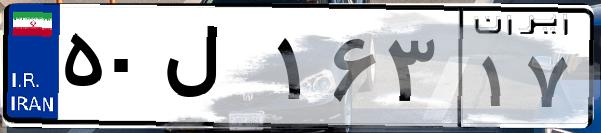0: (110, 28, 158, 98)
1: (270, 28, 330, 110), (475, 38, 525, 113)
3: (385, 28, 445, 110)
5: (57, 26, 110, 100)
6: (330, 28, 385, 110)
7: (525, 38, 570, 115)
ل: (158, 20, 270, 120)
